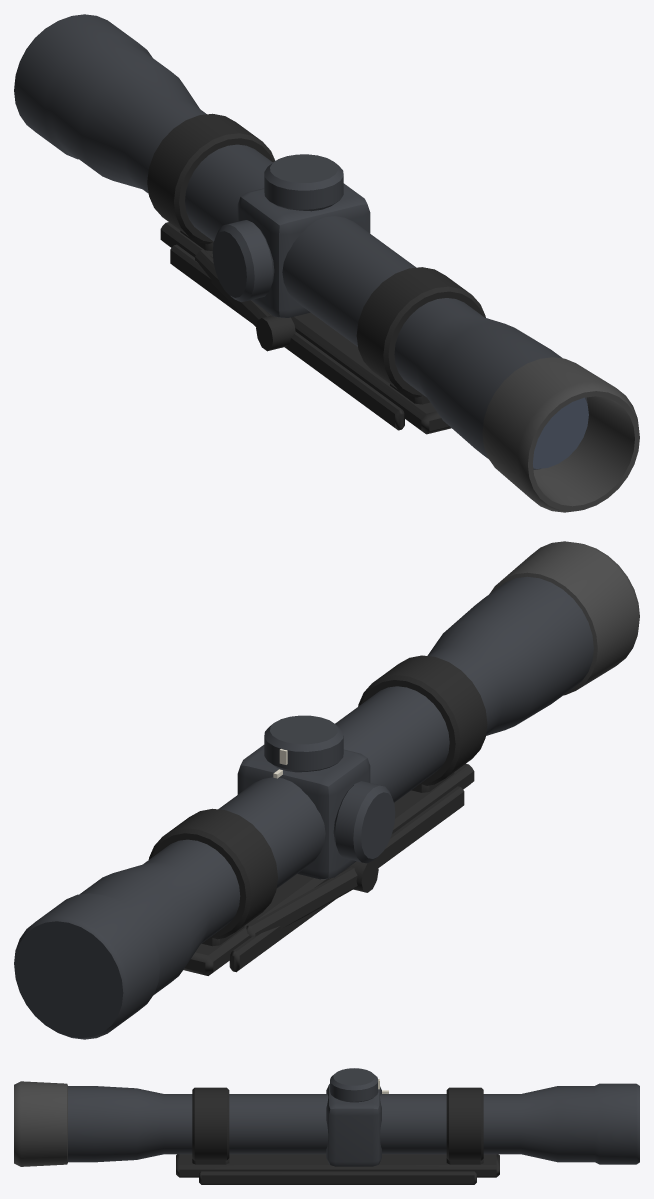
The model's file is pu_scope.glb.
The picture shows the model from 3 angles, top to bottom: view 1: azimuth 30°, elevation 25°; view 2: azimuth 150°, elevation 25°; view 3: azimuth 270°, elevation 25°; orthographic projection. The views are drawn at different scales.
Parts seen in each view (by area): view 1: body, drum; view 2: body, drum; view 3: body, drum.
Boxes of the visible parts, box(x1,y1,x2,y2) form: body: box(14, 14, 639, 512); drum: box(264, 154, 343, 211); body: box(14, 541, 639, 1039); drum: box(264, 715, 343, 772); body: box(14, 1081, 639, 1184); drum: box(330, 1068, 379, 1102).
Bounding box in the file's own units: 0.041 × 0.047 × 0.2705.
